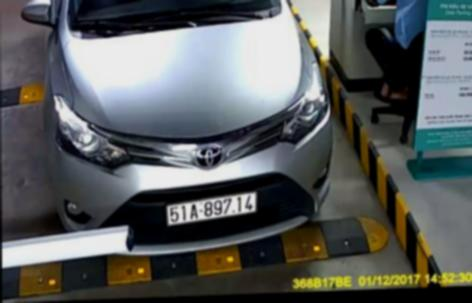License_Plate: (163, 188, 260, 228)
